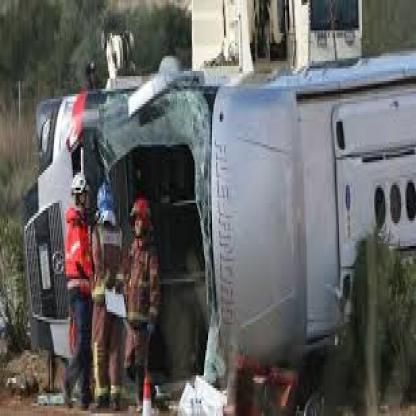accident: (13, 55, 250, 408)
